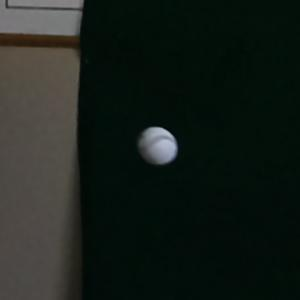ball: (136, 126, 181, 169)
